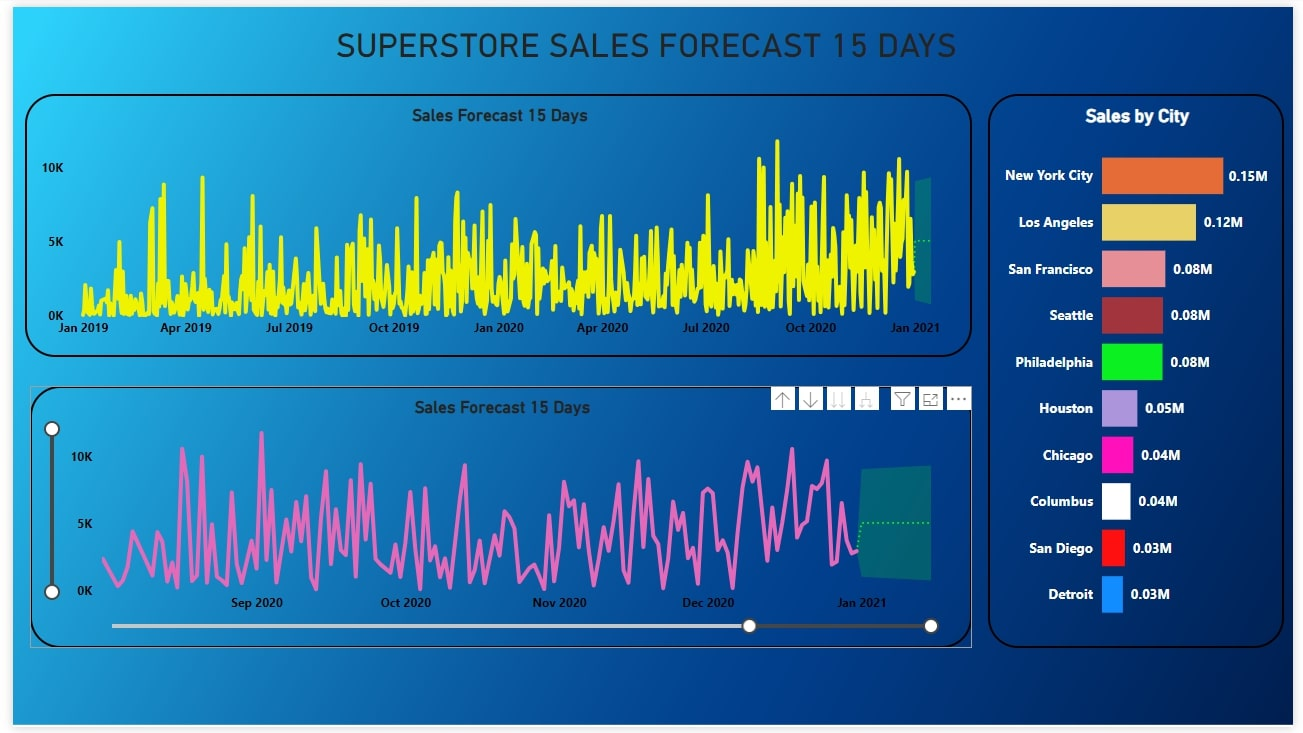

Layout of this report page (visuals, bound fields, positions):
{"tool":"powerbi","page":{"name":"Page 2","canvas":[1280,720],"ordinal":1},"visuals":[{"type":"lineChart","title":"Sales Forecast 15 Days","fields":{"Y":["Sum(SuperStore_Sales_Dataset.Sales)"],"Category":["SuperStore_Sales_Dataset.Order Date.Variation.Date Hierarchy.Year","SuperStore_Sales_Dataset.Order Date.Variation.Date Hierarchy.Quarter","SuperStore_Sales_Dataset.Order Date.Variation.Date Hierarchy.Month","SuperStore_Sales_Dataset.Order Date.Variation.Date Hierarchy.Day"]},"box":[11.6,87.1,947.8,262.5],"z":0},{"type":"textbox","box":[11.1,14.1,1245.7,49.4],"z":1},{"type":"lineChart","title":"Sales Forecast 15 Days","fields":{"Y":["Sum(SuperStore_Sales_Dataset.Sales)"],"Category":["SuperStore_Sales_Dataset.Order Date.Variation.Date Hierarchy.Year","SuperStore_Sales_Dataset.Order Date.Variation.Date Hierarchy.Quarter","SuperStore_Sales_Dataset.Order Date.Variation.Date Hierarchy.Month","SuperStore_Sales_Dataset.Order Date.Variation.Date Hierarchy.Day"]},"box":[17.4,378.7,942,262.5],"z":2},{"type":"barChart","title":"Sales by City","fields":{"Category":["SuperStore_Sales_Dataset.City"],"Y":["Sum(SuperStore_Sales_Dataset.Sales)"]},"box":[974.5,87.1,296.2,554],"z":3}]}

Visuals, with their boxes in screenshot pixels (x1, y1, x2, y2), scaled from the page's 1280x720 canvas onto the 1303x733 screenshot:
"Sales Forecast 15 Days" lineChart: Rect(12, 89, 977, 356)
textbox: Rect(11, 14, 1279, 65)
"Sales Forecast 15 Days" lineChart: Rect(18, 386, 977, 653)
"Sales by City" barChart: Rect(992, 89, 1294, 653)
